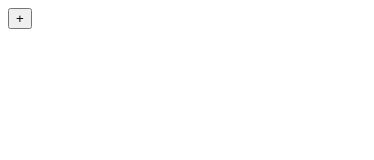
Test case: BlockedButton › leaving the button closes the bubble
Click the button named "Criar canal": (20, 18) [8,8,32,29]
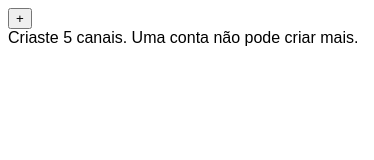
Leave the button named "Criar canal", box [8,8,32,29]
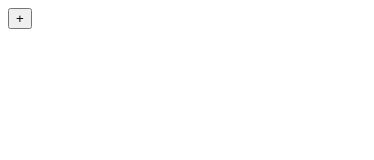
Expected: the text with class "dica-tocada" is gone
